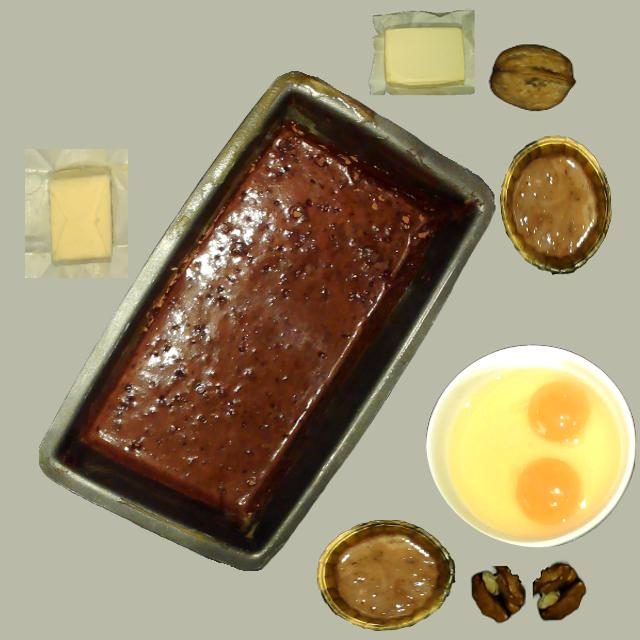Egg: (424, 348, 634, 546)
Walnut: (489, 44, 574, 110)
